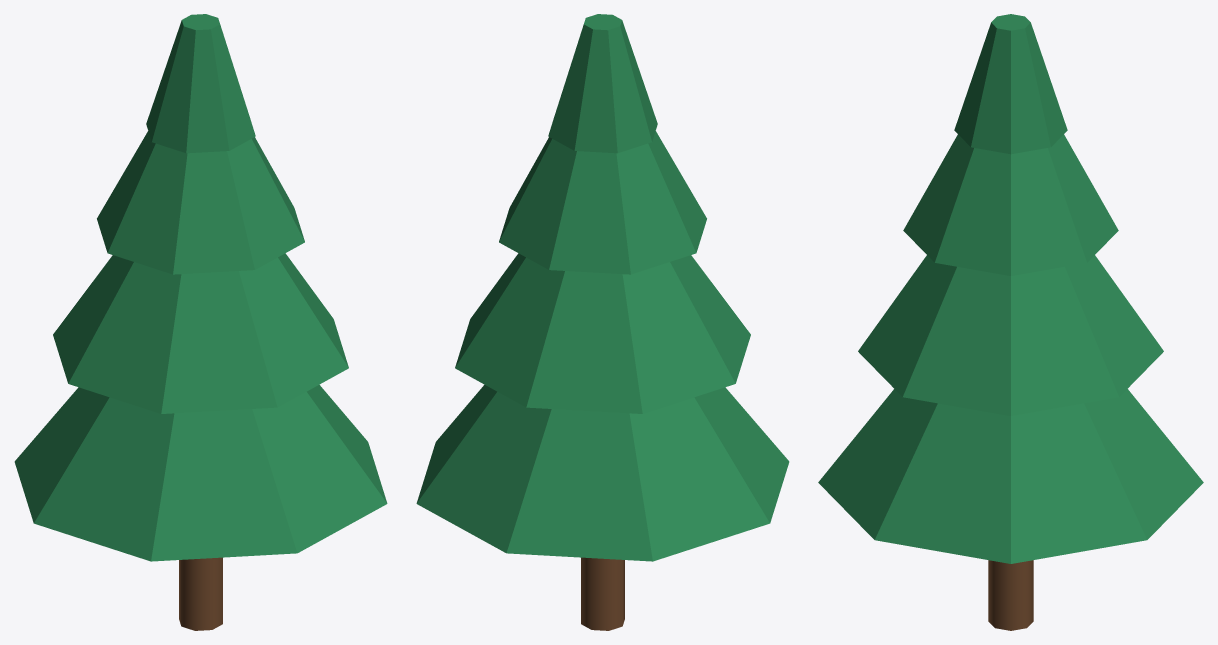
Rendered from tree_pine.glb.
3 views of the same model, side by side, from view 1: azimuth 30°, elevation 25°; view 2: azimuth 150°, elevation 25°; view 3: azimuth 270°, elevation 25° (orthographic).
Visible parts, largest first — view 1: tree_leaves, tree_trunk; view 2: tree_leaves, tree_trunk; view 3: tree_leaves, tree_trunk.
Boxes of the visible parts, x1,y1,x2,y2 form: tree_leaves: [14, 14, 387, 561]; tree_trunk: [179, 557, 222, 630]; tree_leaves: [416, 14, 789, 561]; tree_trunk: [581, 557, 624, 630]; tree_leaves: [818, 14, 1203, 563]; tree_trunk: [988, 560, 1033, 630].
Size of the model in its own units: 3.4 by 5.83 by 3.4.
